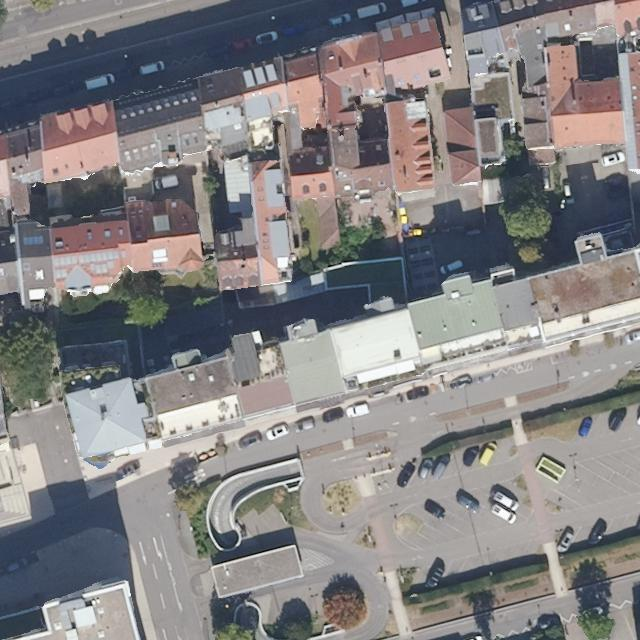PV: (53, 250, 120, 267), (90, 261, 115, 275), (24, 234, 44, 246), (54, 269, 67, 279)
